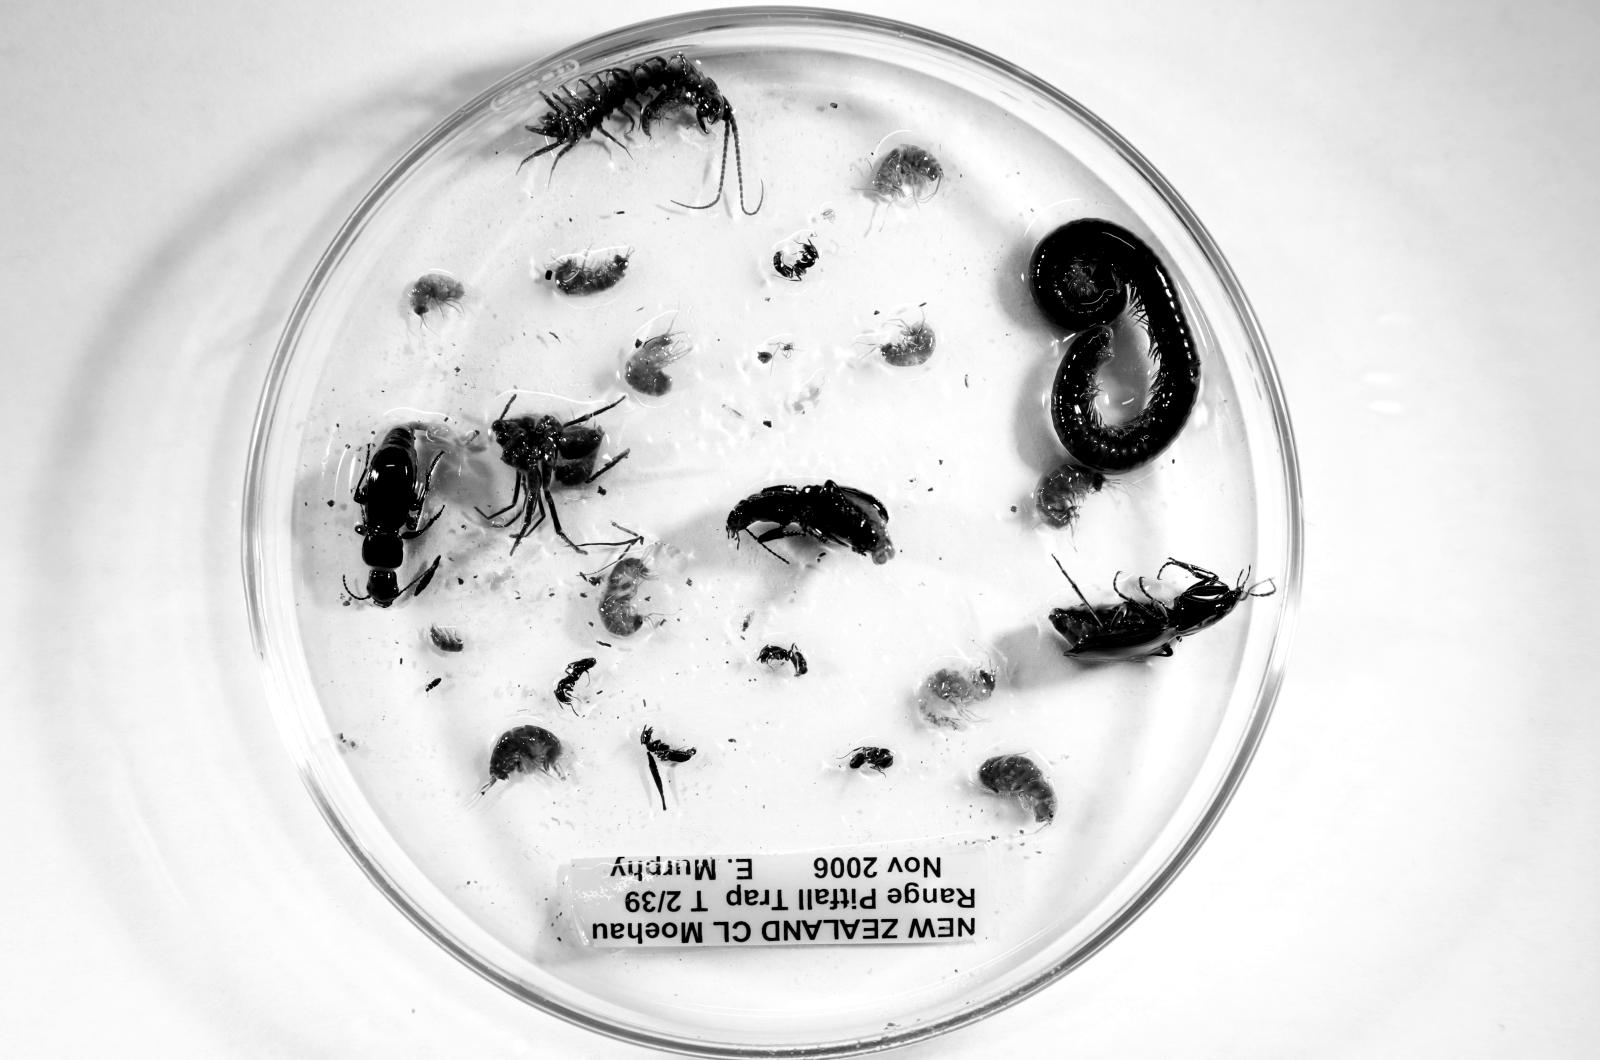amphipoda: (478, 725, 566, 795), (978, 754, 1057, 823), (598, 555, 661, 636), (1034, 461, 1106, 530), (626, 329, 691, 397), (872, 144, 944, 203), (546, 246, 631, 296), (880, 319, 935, 367), (409, 272, 465, 319)
araneae: (482, 397, 628, 552)
carabidae: (1049, 558, 1274, 659), (354, 425, 441, 607), (726, 480, 893, 563)
chilopoda: (525, 54, 736, 161)
diplopoda: (1030, 219, 1200, 473)
formicidae: (640, 725, 698, 769), (553, 657, 597, 706), (772, 239, 820, 282), (757, 645, 808, 677), (848, 745, 893, 771)
